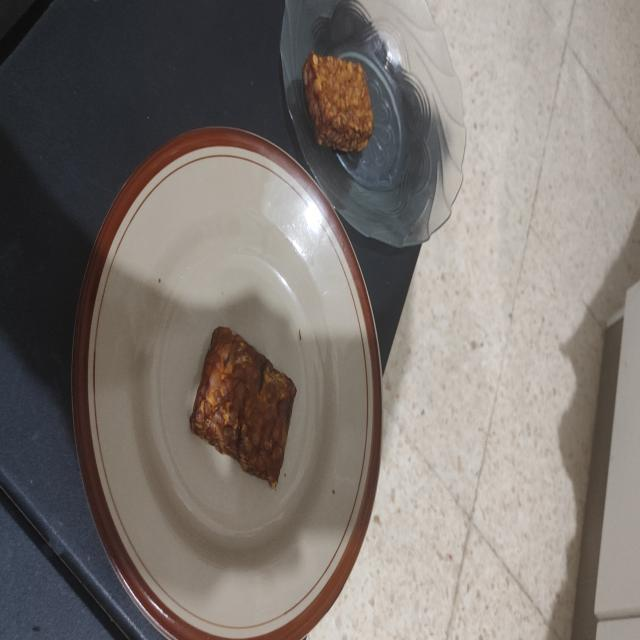tempe_goreng: (190, 327, 296, 489), (303, 52, 373, 152)
